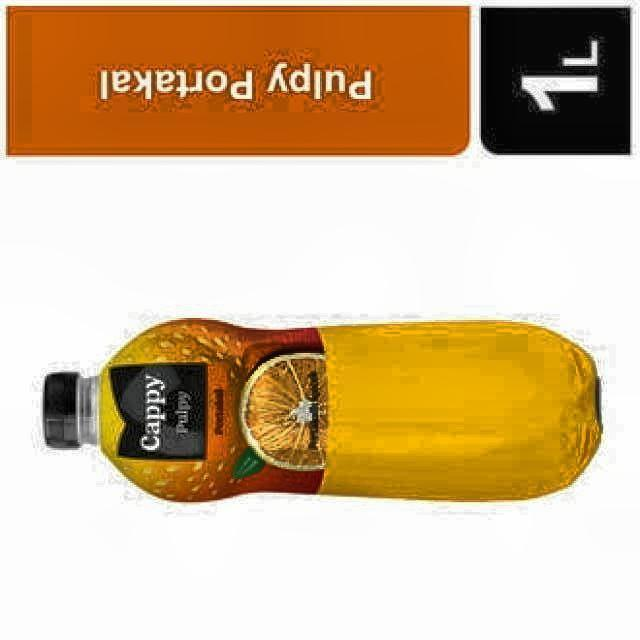plastic: (44, 319, 600, 501)
